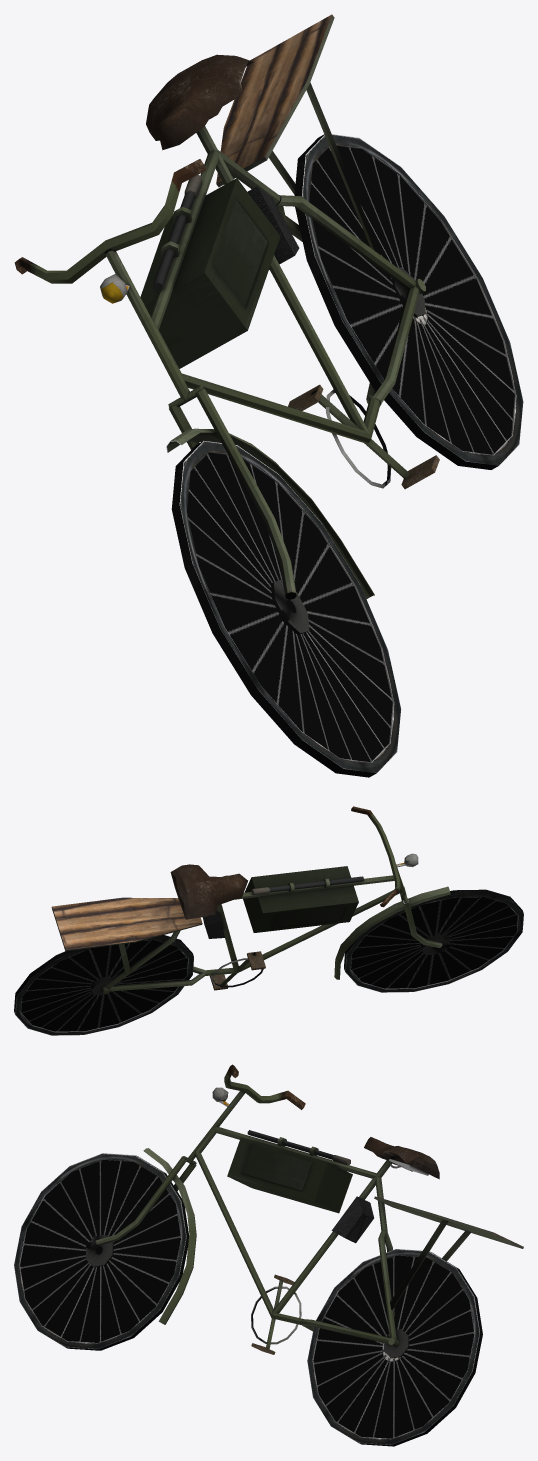
Rendered from bicicleta.fbx.
3 views of the same model, one above another, from view 1: azimuth 30°, elevation 25°; view 2: azimuth 150°, elevation 25°; view 3: azimuth 270°, elevation 25° (orthographic). The views are drawn at different scales.
Visible parts, largest first — view 1: Line005; view 2: Line005; view 3: Line005.
Boxes of the visible parts, <box> form: Line005: <box>14,14,523,777</box>; Line005: <box>14,806,523,1035</box>; Line005: <box>14,1064,523,1446</box>.
Bounding box in the file's own units: 124 × 90.45 × 155.
